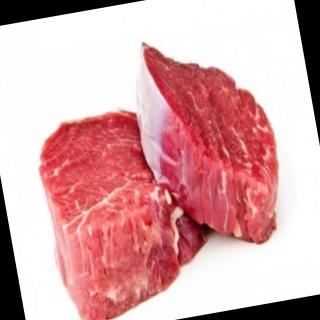Daging Sapi: (33, 99, 223, 320), (129, 28, 293, 257)
